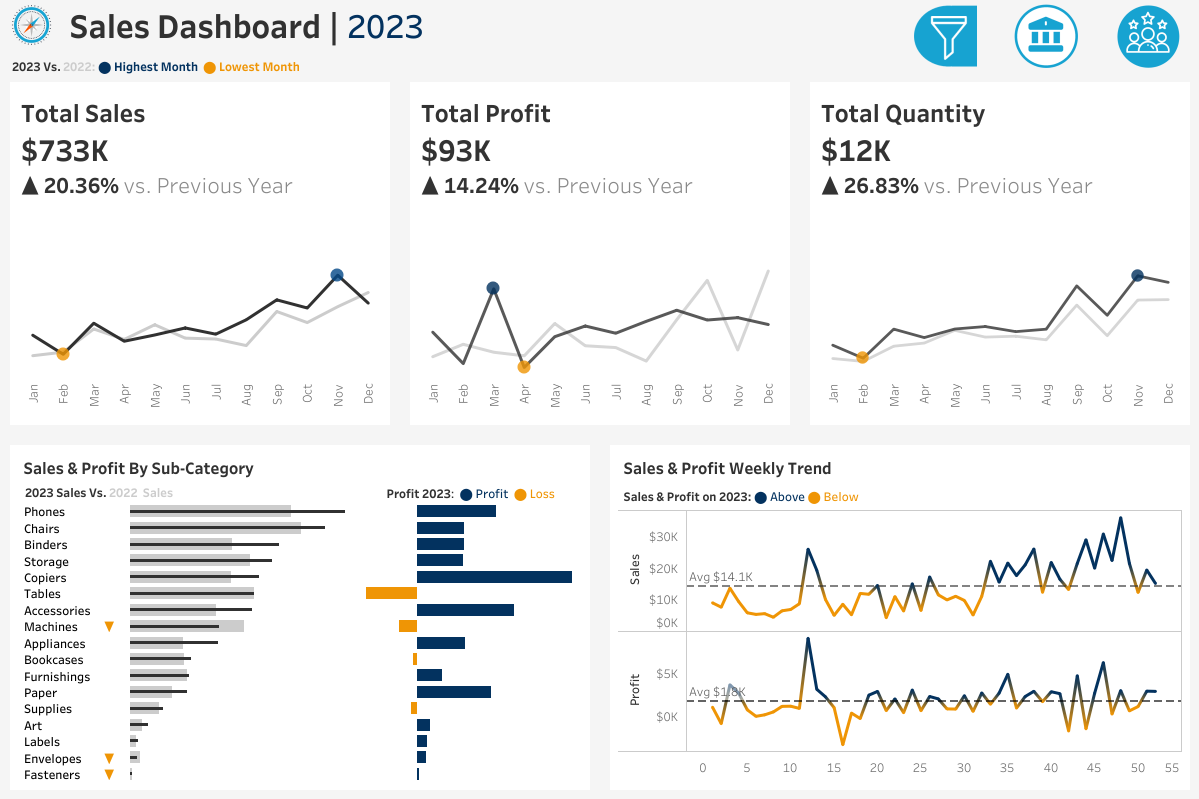

The dashboard page shown, as its layout file describes it:
{"tool":"tableau","page":{"name":"Sales Dashboard","canvas":[1200,800],"ordinal":1},"visuals":[{"type":"image","param":"Image/Icon - Logo.png","box":[0,0,63,50]},{"type":"text","box":[63,0,839,50]},{"type":"dashboard-object","box":[894,0,102,73]},{"type":"dashboard-object","box":[996,0,102,73]},{"type":"dashboard-object","box":[1098,0,101,73]},{"type":"text","box":[1002,11,187,47]},{"type":"worksheet","title":"Legend KPI","mark":"Automatic","box":[0,50,1200,32]},{"type":"parameter","param":"[Parameters].[Parameter 1]","box":[1002,58,187,52]},{"type":"worksheet","title":"Sales KPI","mark":"Automatic","rows":["Calculation_501306957060358149"],"cols":["Order Date"],"box":[0,82,400,353]},{"type":"worksheet","title":"Profit KPI","mark":"Line","rows":["Calculation_501306957097324561"],"cols":["Order Date"],"box":[400,82,400,353]},{"type":"worksheet","title":"Quantity KPI","mark":"Line","rows":["Calculation_360006518806880261"],"cols":["Order Date"],"box":[800,82,400,353]},{"type":"text","box":[1002,110,187,60]},{"type":"filter","title":"Sales KPI","param":"[federated.0t1ypsu11avbs21dtamkf0fed2yd].[none:Category:nk]","box":[1002,170,187,52]},{"type":"filter","title":"Sales KPI","param":"[federated.0t1ypsu11avbs21dtamkf0fed2yd].[none:Sub-Category:nk]","box":[1002,222,187,52]},{"type":"text","box":[1002,274,187,60]},{"type":"filter","title":"Sales KPI","param":"[federated.0t1ypsu11avbs21dtamkf0fed2yd].[none:Region:nk]","box":[1002,334,187,52]},{"type":"filter","title":"Sales KPI","param":"[federated.0t1ypsu11avbs21dtamkf0fed2yd].[none:State:nk]","box":[1002,386,187,52]},{"type":"filter","title":"Sales KPI","param":"[federated.0t1ypsu11avbs21dtamkf0fed2yd].[none:City:nk]","box":[1002,438,187,52]},{"type":"text","box":[17,452,566,30]},{"type":"text","box":[617,452,566,30]},{"type":"worksheet","title":"Legend Sub-Category","mark":"Automatic","box":[17,482,363,19.6]},{"type":"text","box":[380,482,203,19.6]},{"type":"text","box":[617,482,566,25]},{"type":"worksheet","title":"Sub-Category Comparison","mark":"Bar","rows":["Sub-Category","Calculation_636977897929502720"],"cols":["Calculation_501306957058777092","Calculation_501306957058613251","Calculation_501306957096890383"],"box":[17,501.6,566,281.4]},{"type":"worksheet","title":"Weekly Trends","mark":"Automatic","rows":["Calculation_501306957058613251","Calculation_501306957096890383"],"cols":["Order Date"],"box":[617,507,566,276]}]}

Visuals, with their boxes in screenshot pixels (x1, y1, x2, y2), scaled from the page's 1200x800 canvas onto the 1199x799 screenshot:
image: 0/0/63/50
text: 63/0/901/50
dashboard-object: 893/0/995/73
dashboard-object: 995/0/1097/73
dashboard-object: 1097/0/1198/73
text: 1001/11/1188/58
"Legend KPI" worksheet: 0/50/1198/82
parameter: 1001/58/1188/110
"Sales KPI" worksheet: 0/82/400/434
"Profit KPI" worksheet (Line marks): 400/82/799/434
"Quantity KPI" worksheet (Line marks): 799/82/1198/434
text: 1001/110/1188/170
"Sales KPI" filter: 1001/170/1188/222
"Sales KPI" filter: 1001/222/1188/274
text: 1001/274/1188/334
"Sales KPI" filter: 1001/334/1188/386
"Sales KPI" filter: 1001/386/1188/437
"Sales KPI" filter: 1001/437/1188/489
text: 17/451/583/481
text: 616/451/1182/481
"Legend Sub-Category" worksheet: 17/481/380/501
text: 380/481/583/501
text: 616/481/1182/506
"Sub-Category Comparison" worksheet (Bar marks): 17/501/583/782
"Weekly Trends" worksheet: 616/506/1182/782
